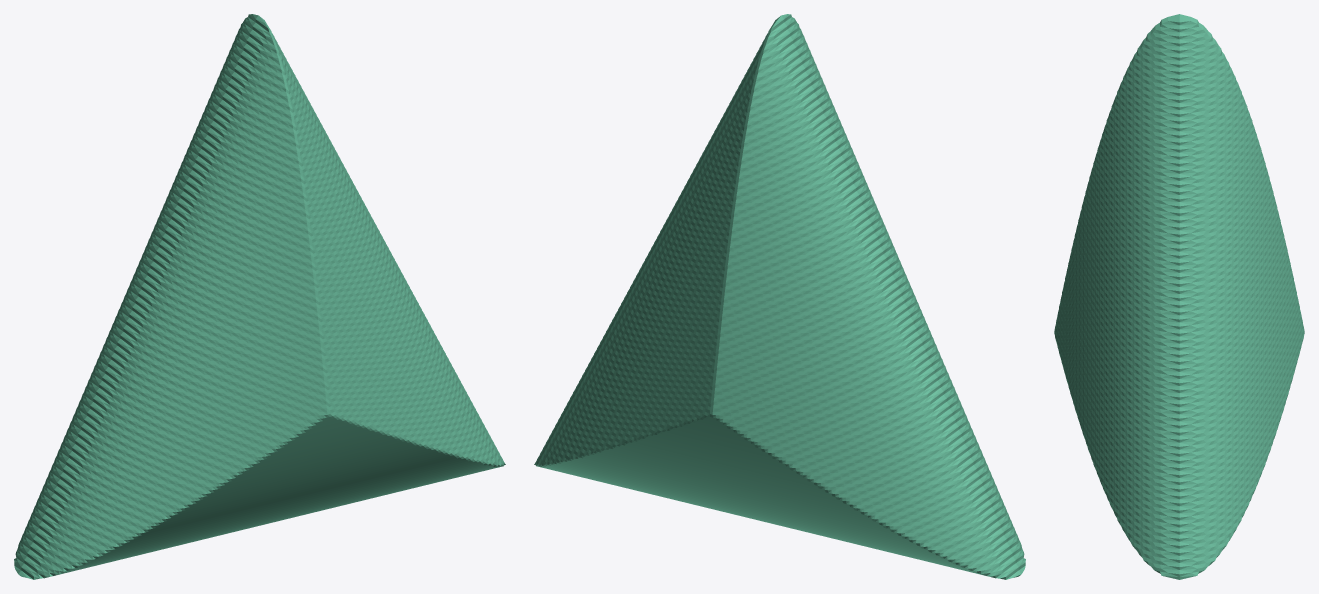
3 renders of one model, left to right at view 1: azimuth 30°, elevation 25°; view 2: azimuth 150°, elevation 25°; view 3: azimuth 270°, elevation 25°, orthographic. The views are drawn at different scales.
Visible parts, largest first — view 1: geometry_0; view 2: geometry_0; view 3: geometry_0.
Boxes of the visible parts, x1,y1,x2,y2 form: geometry_0: [14, 14, 505, 579]; geometry_0: [534, 14, 1025, 579]; geometry_0: [1054, 14, 1304, 579].
Bounding box in the file's own units: 1 × 1 × 0.495.
